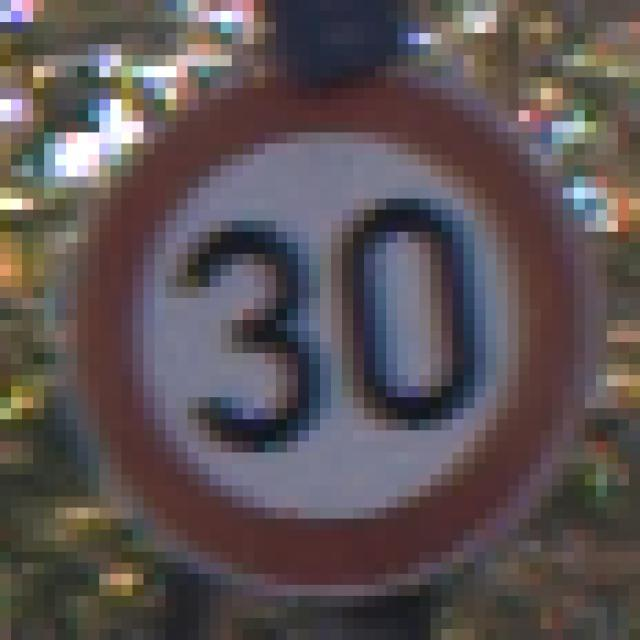Speed Limit -30-: (66, 66, 574, 574)
